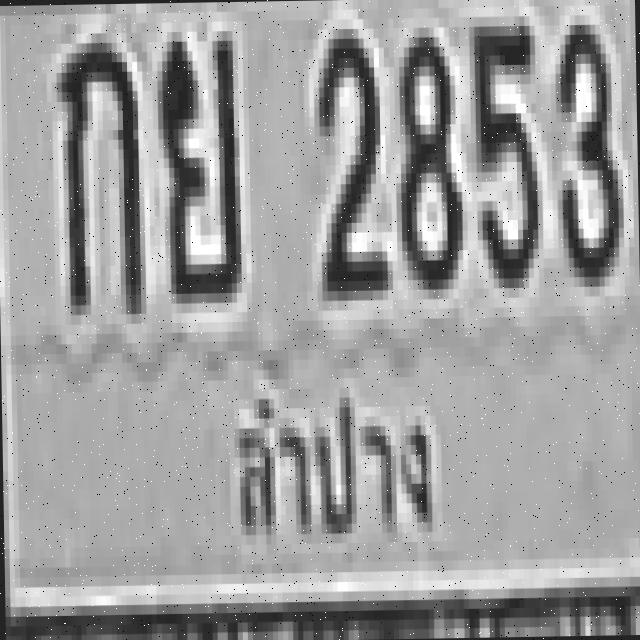10GorGai: (56, 32, 141, 306)
2: (312, 18, 382, 291)
3: (552, 14, 616, 278)
43YorYak: (151, 25, 236, 288)
5: (468, 16, 534, 279)
8: (393, 27, 458, 280)
Lampang: (220, 379, 446, 552)
